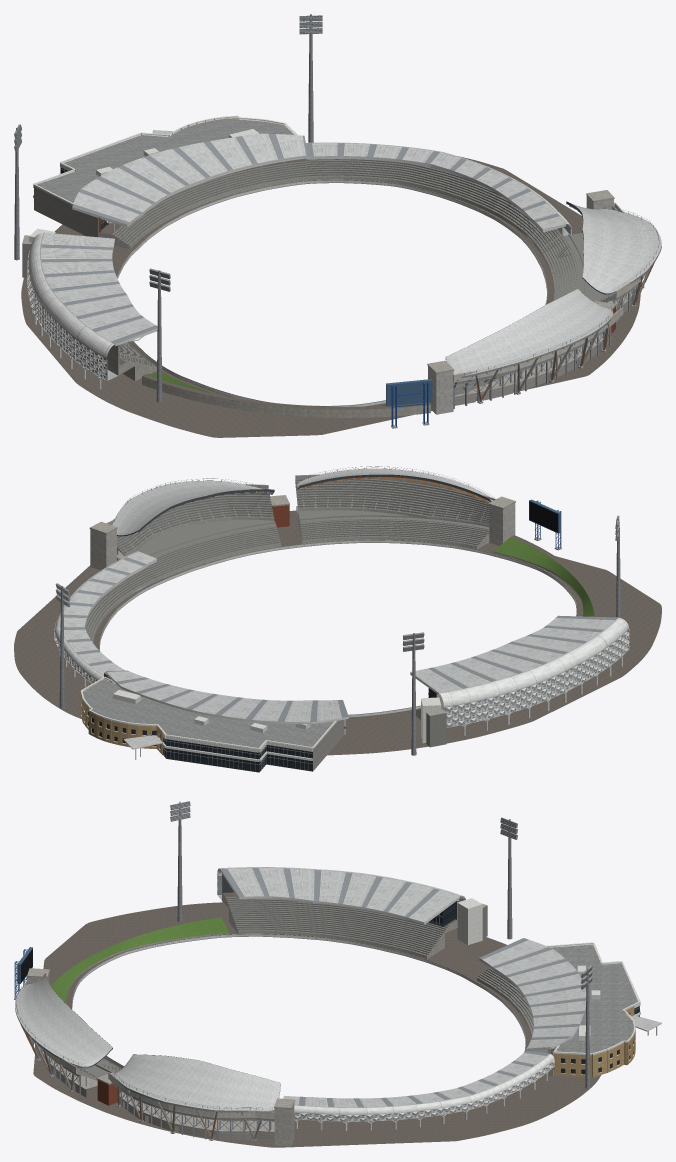
Rendered from mars_part1.glb.
The picture shows the model from 3 angles, top to bottom: view 1: azimuth 30°, elevation 25°; view 2: azimuth 150°, elevation 25°; view 3: azimuth 270°, elevation 25°; orthographic projection. The views are drawn at different scales.
Parts seen in each view (by area): view 1: roofs, stands, concourse, club, towers, fence, seat_posts, videoboard; view 2: stands, roofs, concourse, club, seat_posts, towers, fence, buildings, videoboard, club_frame; view 3: roofs, stands, concourse, club, towers, fence, seat_posts, buildings, videoboard.
Boxes of the visible parts, x1,y1,x2,y2 form: roofs: [28, 133, 661, 408]; stands: [27, 158, 646, 417]; concourse: [21, 156, 640, 437]; club: [33, 115, 297, 237]; towers: [14, 14, 322, 402]; fence: [117, 179, 547, 406]; seat_posts: [114, 159, 614, 366]; videoboard: [386, 379, 432, 428]; stands: [54, 474, 629, 735]; roofs: [54, 466, 628, 724]; concourse: [14, 510, 661, 755]; club: [80, 677, 344, 772]; seat_posts: [87, 478, 489, 708]; towers: [55, 515, 620, 755]; fence: [99, 539, 576, 717]; buildings: [421, 697, 446, 747]; videoboard: [529, 499, 561, 550]; club_frame: [135, 736, 312, 772]; roofs: [15, 867, 586, 1141]; stands: [23, 873, 556, 1146]; concourse: [33, 902, 600, 1147]; club: [547, 942, 661, 1077]; towers: [170, 801, 592, 1088]; fence: [72, 933, 525, 1067]; seat_posts: [77, 896, 545, 1077]; buildings: [457, 898, 487, 944]; videoboard: [14, 947, 32, 999].
Size of the model in its own units: 205 by 46.34 by 229.
29 materials, 29 textured.
